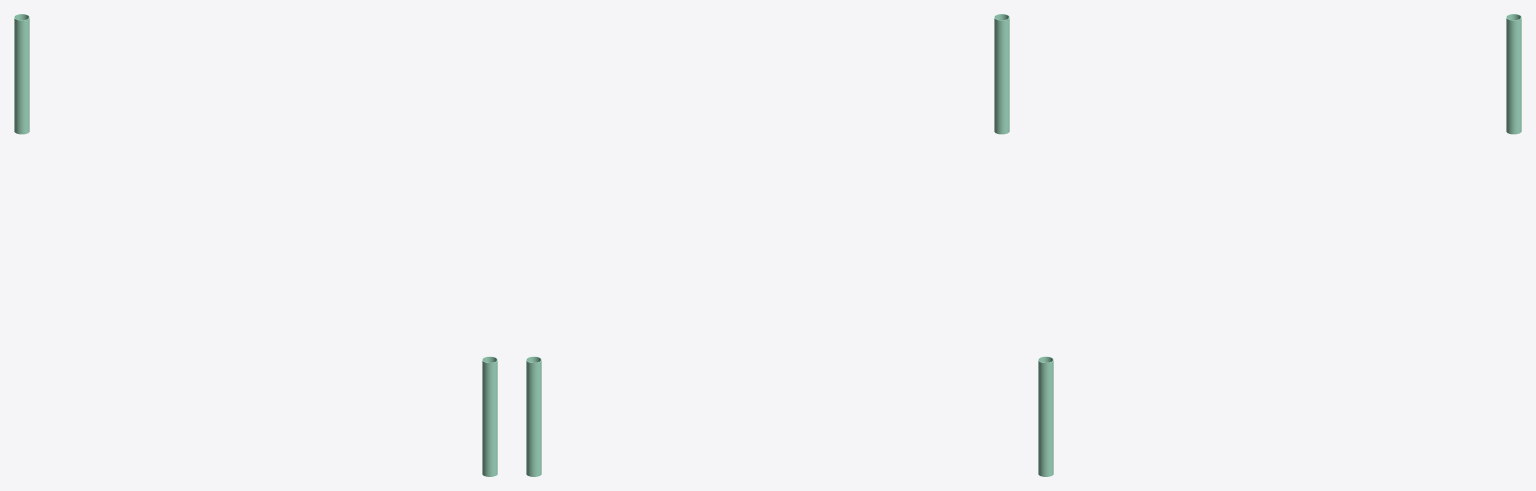
The model's file is PROPULSION__rudder assembly__Rudder tube__G10 tube 3_ OD X 2.75_ ID.glb.
3 renders of one model, left to right at view 1: azimuth 30°, elevation 25°; view 2: azimuth 150°, elevation 25°; view 3: azimuth 330°, elevation 25°, orthographic.
Visible parts, largest first — view 1: G10 tube 3" OD X 2.75" ID; view 2: G10 tube 3" OD X 2.75" ID; view 3: G10 tube 3" OD X 2.75" ID.
Boxes of the visible parts, left/top/right/bottom form: G10 tube 3" OD X 2.75" ID: left=14, top=14, right=497, bottom=476; G10 tube 3" OD X 2.75" ID: left=526, top=14, right=1009, bottom=476; G10 tube 3" OD X 2.75" ID: left=1038, top=14, right=1521, bottom=476.
Size of the model in its own units: 0.0762 by 0.6137 by 4.65.
